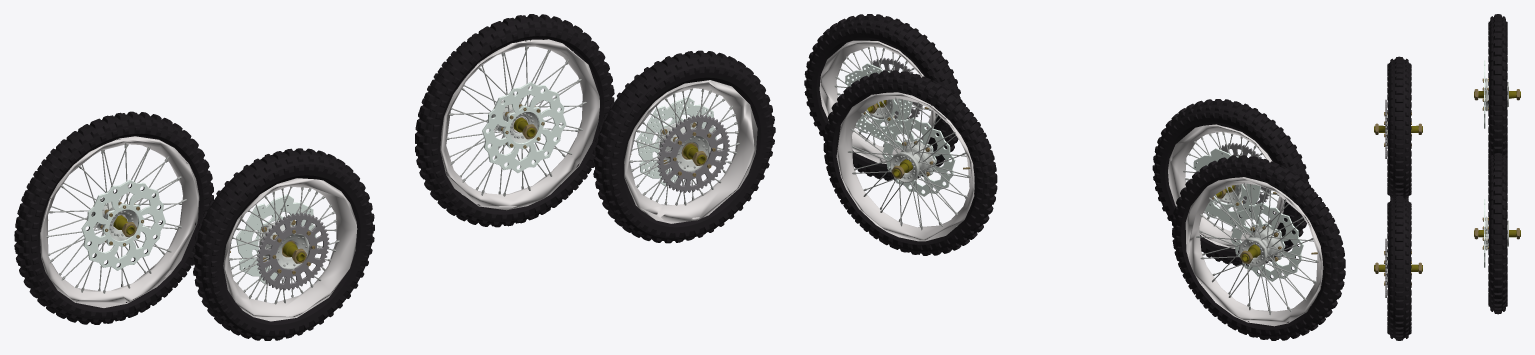
File: ruote_coppia.glb
The picture shows the model from 3 angles, left to right: view 1: azimuth 30°, elevation 25°; view 2: azimuth 150°, elevation 25°; view 3: azimuth 270°, elevation 25°; orthographic projection. The views are drawn at different scales.
Parts seen in each view (by area): view 1: BEARING - REAR WHEEL HUB.002_NUTS_BOLTS_0, BRAKE DISC V1.0 - REAR WHEEL HUB.002_BRAKE_DISCS_0, AIR VALVE - REAR WHEEL RIM.002_NUTS_BOLTS_0; view 2: BEARING - REAR WHEEL HUB.002_NUTS_BOLTS_0, BRAKE DISC V1.0 - REAR WHEEL HUB.002_BRAKE_DISCS_0; view 3: BEARING - REAR WHEEL HUB.002_NUTS_BOLTS_0, AIR VALVE - REAR WHEEL RIM.002_NUTS_BOLTS_0, AXEL FRONT WHEEL - FRONT WHEEL HUB.001_WHEEL_AXEL_0, BRAKE DISC V1.0 - REAR WHEEL HUB.002_BRAKE_DISCS_0, TYRE_FRONT.001_WHEEL_AXEL_0.
Boxes of the visible parts, left/top/right/bottom form: BEARING - REAR WHEEL HUB.002_NUTS_BOLTS_0: left=14, top=14, right=775, bottom=340; BRAKE DISC V1.0 - REAR WHEEL HUB.002_BRAKE_DISCS_0: left=81, top=82, right=716, bottom=284; AIR VALVE - REAR WHEEL RIM.002_NUTS_BOLTS_0: left=493, top=104, right=715, bottom=176; BEARING - REAR WHEEL HUB.002_NUTS_BOLTS_0: left=804, top=14, right=1345, bottom=340; BRAKE DISC V1.0 - REAR WHEEL HUB.002_BRAKE_DISCS_0: left=845, top=63, right=1303, bottom=281; BEARING - REAR WHEEL HUB.002_NUTS_BOLTS_0: left=1375, top=14, right=1519, bottom=340; AIR VALVE - REAR WHEEL RIM.002_NUTS_BOLTS_0: left=1375, top=217, right=1519, bottom=285; AXEL FRONT WHEEL - FRONT WHEEL HUB.001_WHEEL_AXEL_0: left=1374, top=230, right=1520, bottom=271; BRAKE DISC V1.0 - REAR WHEEL HUB.002_BRAKE_DISCS_0: left=1484, top=60, right=1485, bottom=267; TYRE_FRONT.001_WHEEL_AXEL_0: left=1374, top=91, right=1520, bottom=132.
Size of the model in its own units: 2.24 by 0.6401 by 0.5837.
3 materials, 3 textured.
